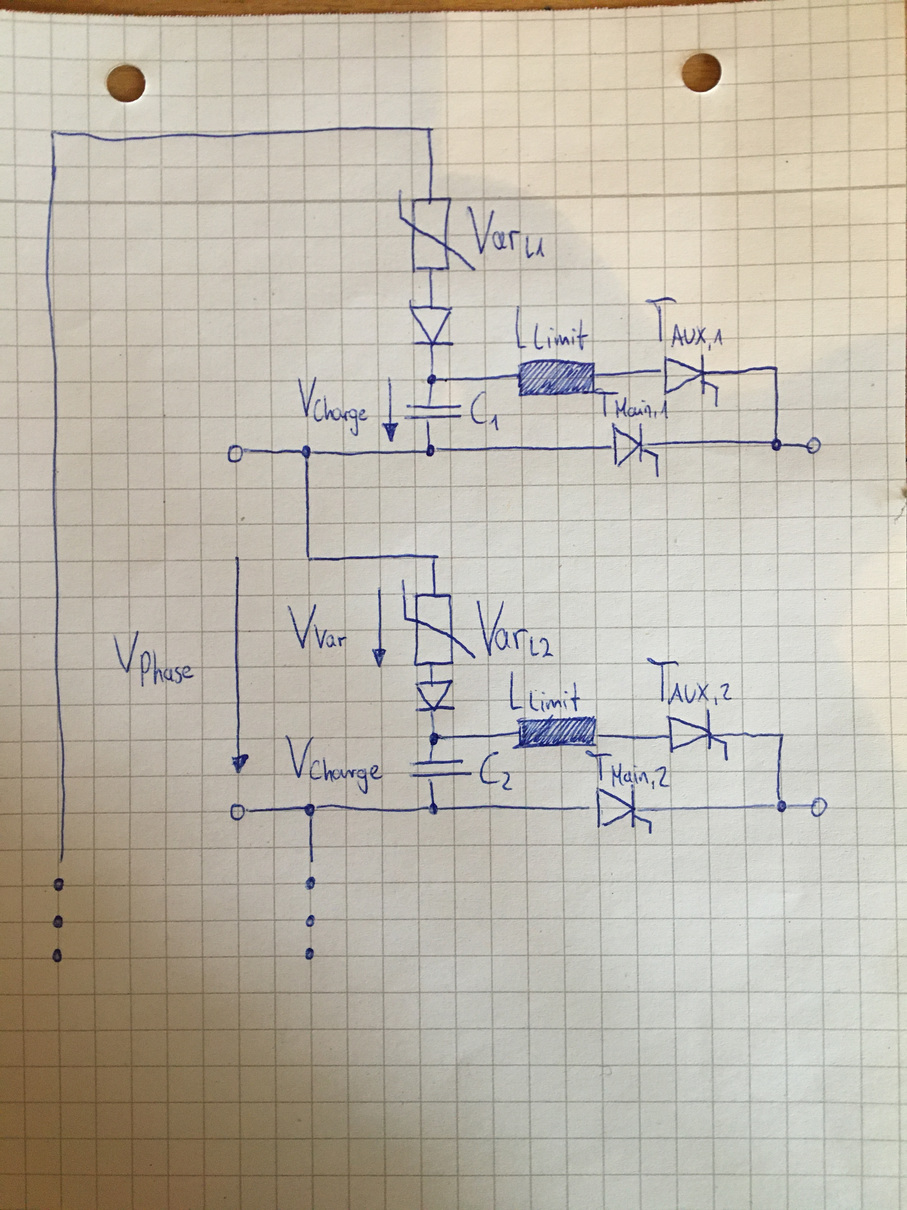capacitor.unpolarized: (406, 755, 475, 786), (402, 399, 464, 425)
diode: (406, 299, 457, 348), (414, 678, 458, 714)
inductor: (515, 356, 598, 399), (511, 714, 602, 750)
junction: (302, 799, 322, 822), (772, 796, 790, 815), (427, 730, 443, 748), (769, 436, 785, 454), (300, 442, 315, 461), (424, 442, 439, 459), (427, 800, 441, 817), (425, 372, 440, 386), (428, 551, 440, 564), (47, 126, 59, 139), (770, 364, 783, 376), (776, 730, 787, 743), (303, 553, 314, 564), (425, 125, 435, 136)
terminal: (302, 858, 323, 893), (50, 857, 68, 895), (808, 795, 830, 819), (228, 801, 252, 823), (226, 442, 248, 464), (805, 435, 823, 456)
text: (283, 733, 384, 796), (111, 629, 197, 689), (474, 598, 555, 659), (464, 203, 547, 260), (644, 295, 726, 352), (645, 655, 734, 707), (296, 376, 370, 437), (512, 303, 591, 353), (583, 749, 672, 791), (508, 669, 582, 715), (286, 602, 349, 651), (593, 388, 670, 422), (478, 749, 514, 793), (469, 389, 502, 433)
thyristor: (664, 708, 729, 756), (585, 785, 654, 830), (658, 352, 721, 397), (608, 421, 661, 468)
varistor: (395, 188, 478, 275), (398, 577, 477, 668)
